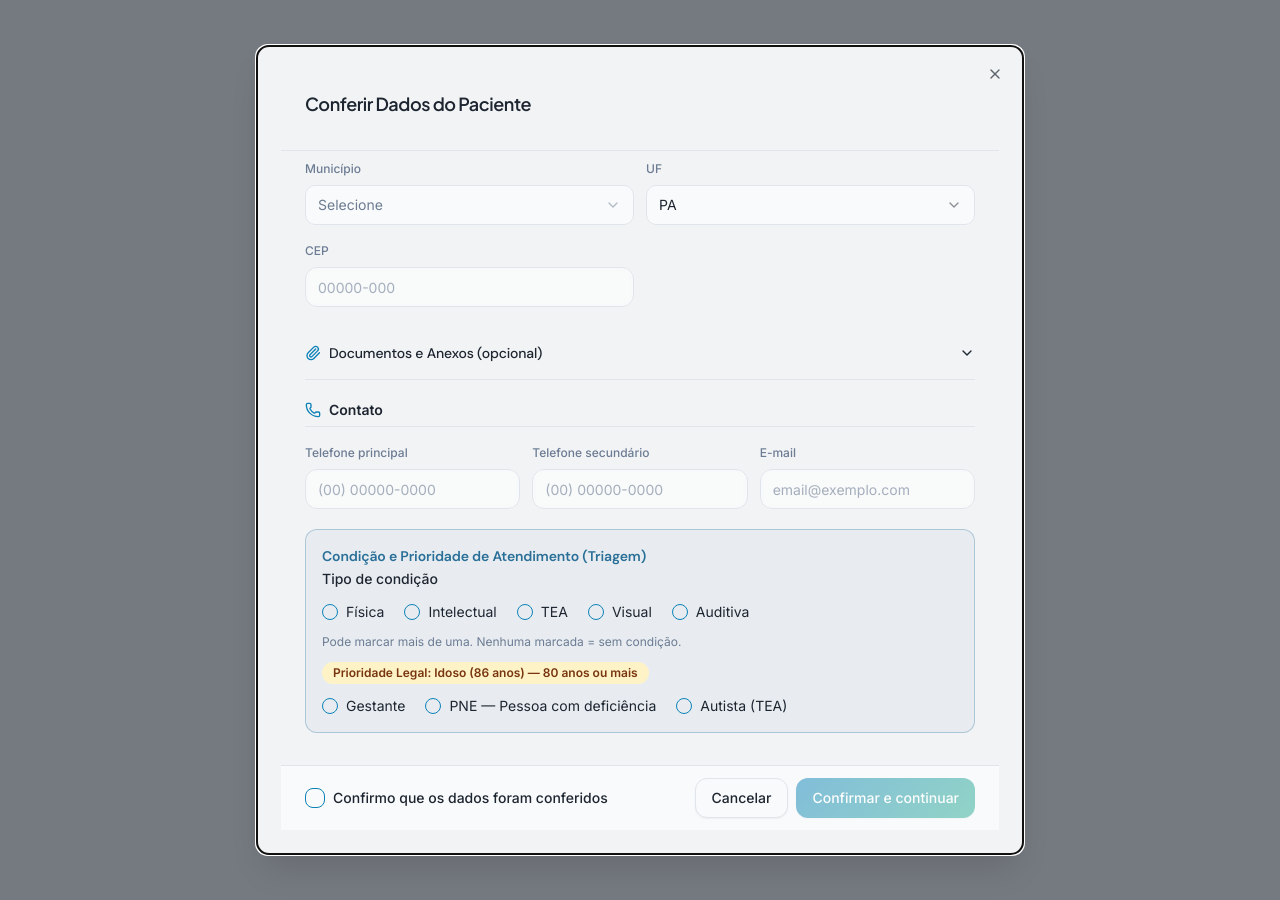
Scenario: mobilidade no modal de conferência da Agenda › exibe opções de mobilidade e salva o dispositivo ao selecionar Física
The image size is (1280, 900).
Later steps or results of the test are not shown.
(page scrolled)
Click the checkbox named "Física" next to "Física" at (330, 612), box [322,604,338,620]
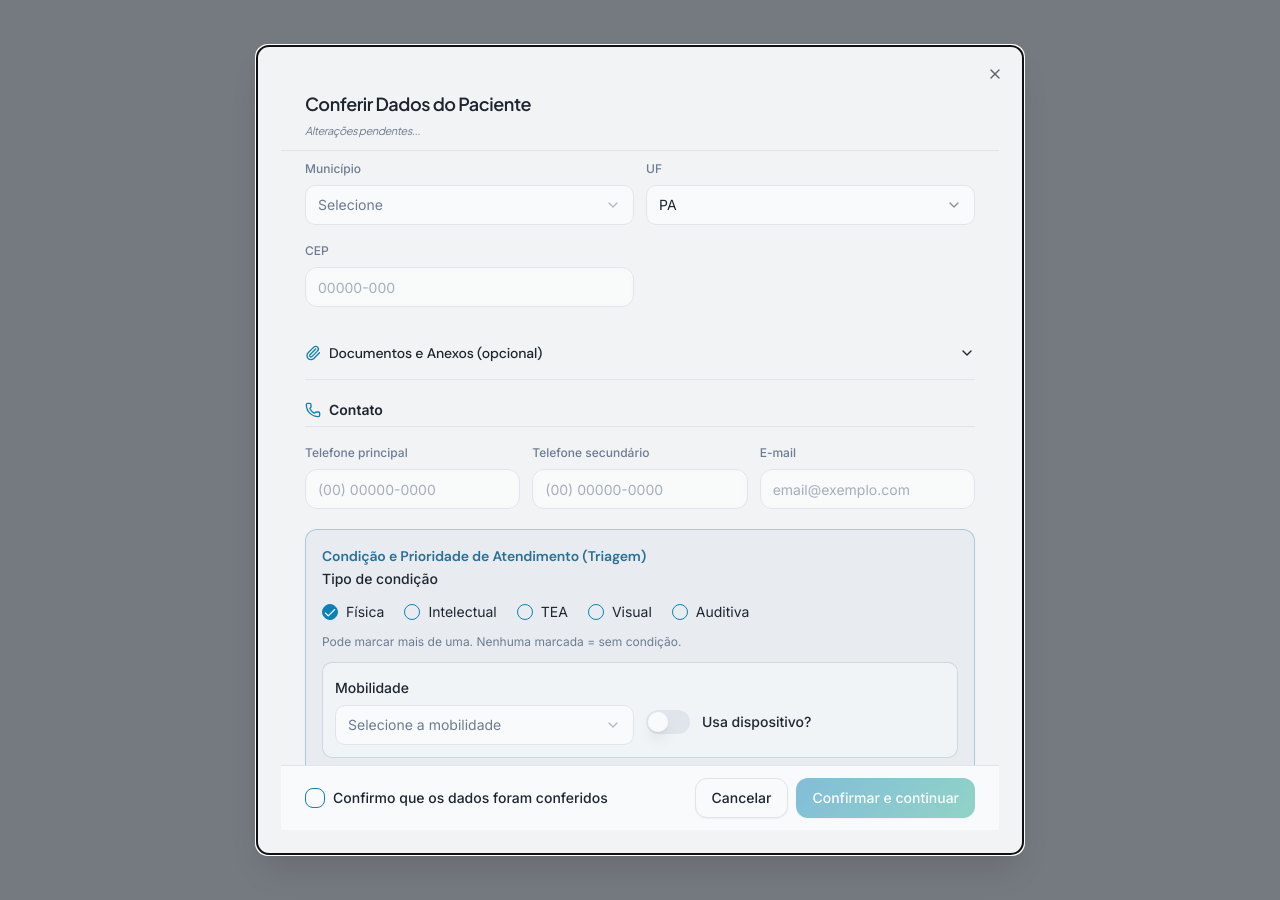
Expected: the text "Mobilidade" is shown, [335,679,409,696]
Expected: the text "Usa dispositivo?" is shown, [702,712,811,732]
